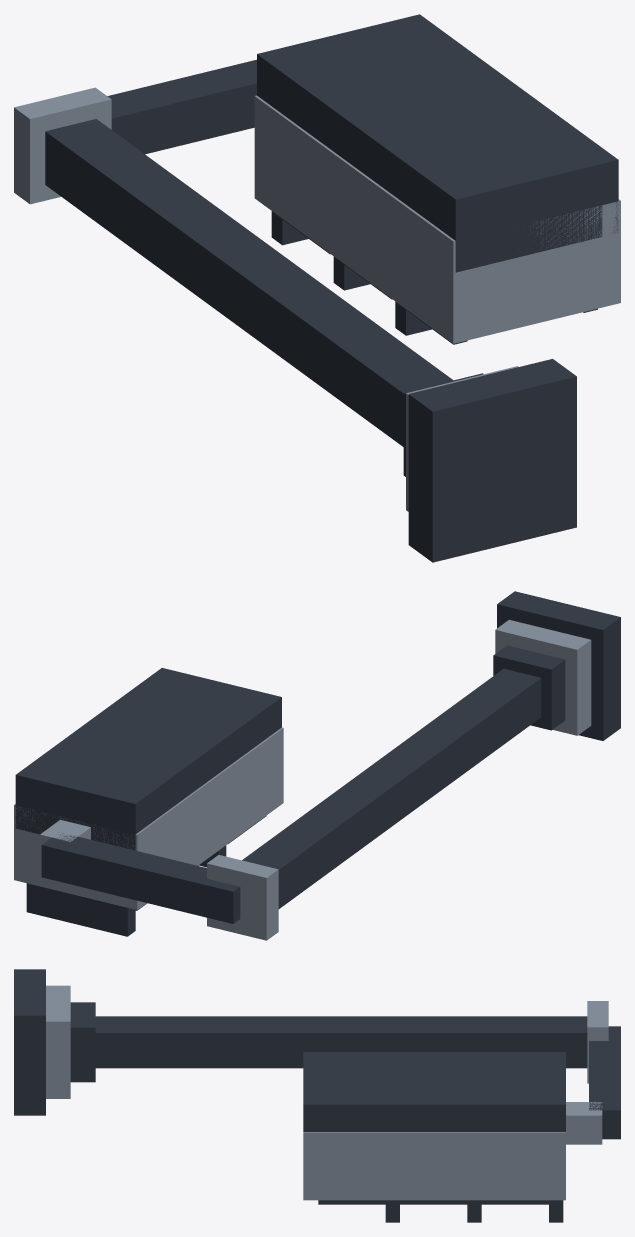
The model's file is gotham_stoplight.glb.
3 views of the same model, one above another, from view 1: azimuth 30°, elevation 25°; view 2: azimuth 150°, elevation 25°; view 3: azimuth 270°, elevation 25° (orthographic). The views are drawn at different scales.
Parts seen in each view (by area): view 1: Gotham_Stoplight; view 2: Gotham_Stoplight; view 3: Gotham_Stoplight.
Part boxes in pixels (x1,y1,x2,y2): Gotham_Stoplight: (14,14,620,562); Gotham_Stoplight: (14,591,620,940); Gotham_Stoplight: (14,969,620,1222).
Bounding box in the file's own units: 1.75 × 0.79 × 3.42.
